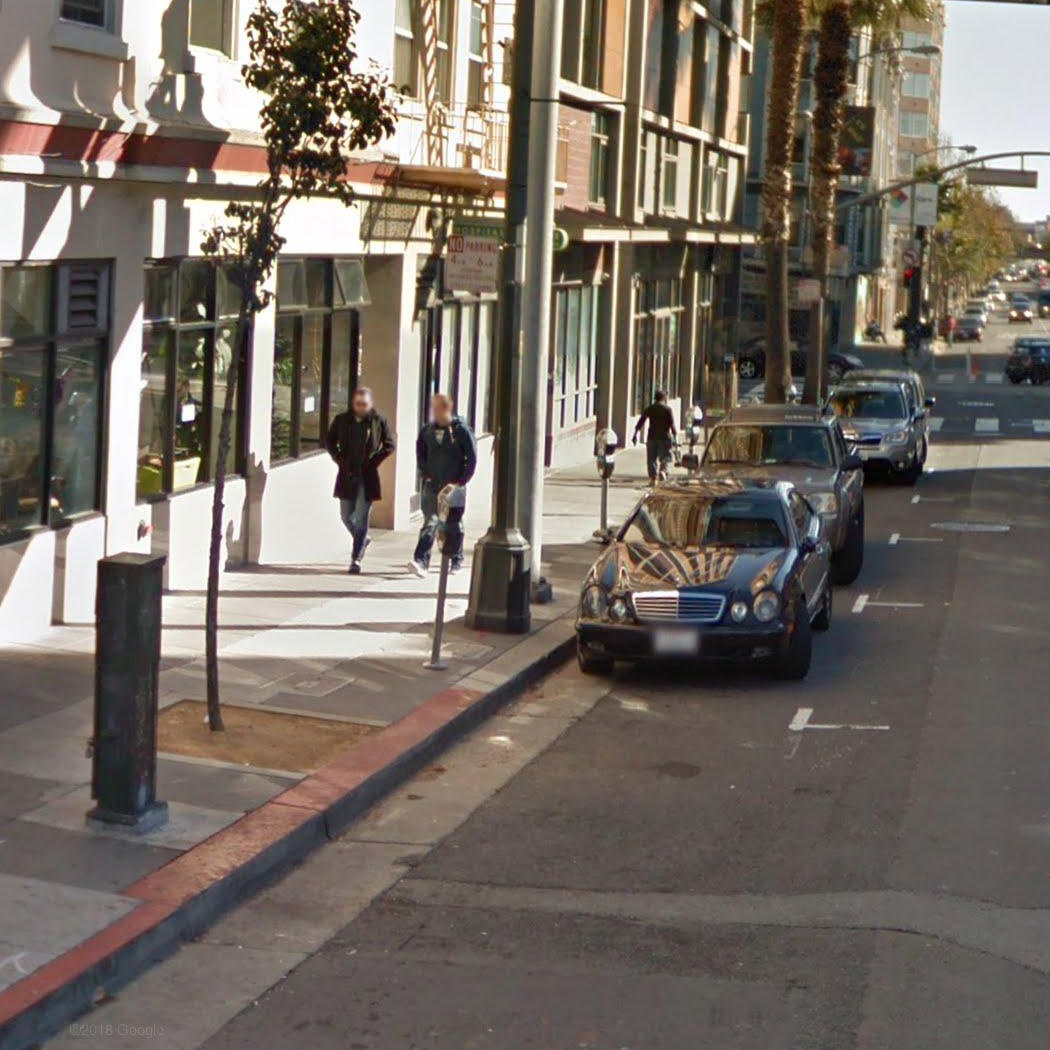No Parking: (443, 233, 501, 293)
